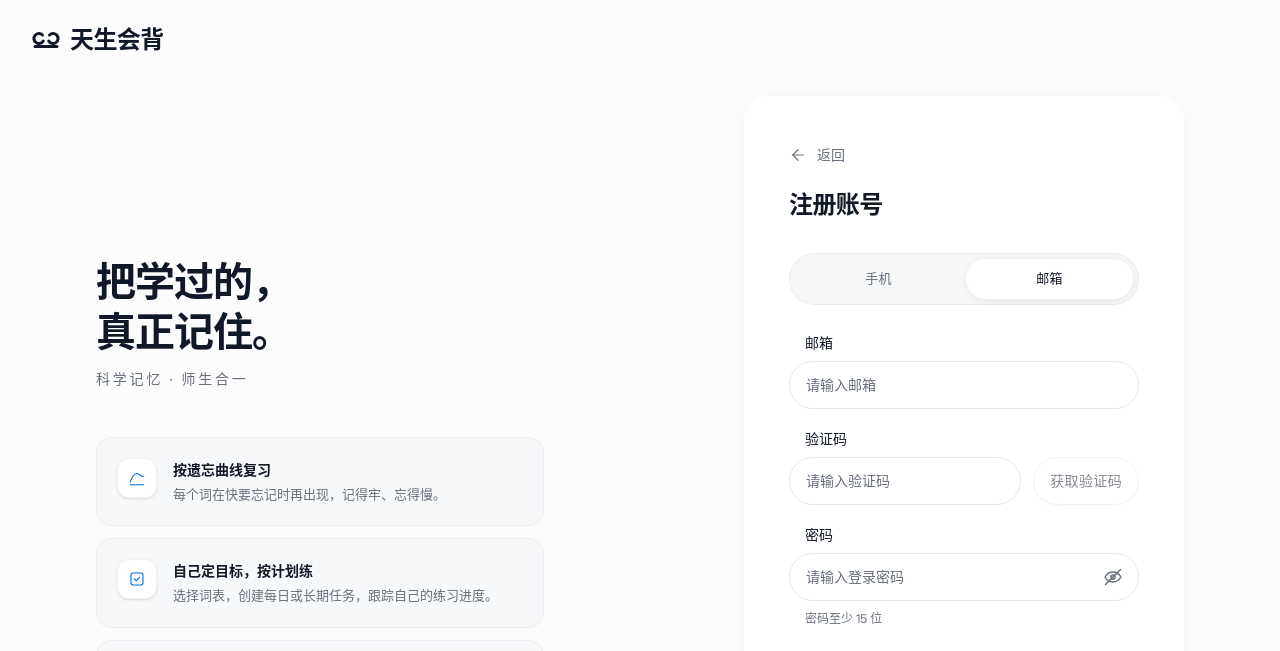
RegisterForm — 手机号验证码注册 › 同一规范化邮箱的大小写和空白修改保留验证码与冷却
In the field with placeholder "请输入邮箱": (964, 385) x1=789 y1=361 x2=1139 y2=409, type "Student@EXAMPLE.com"
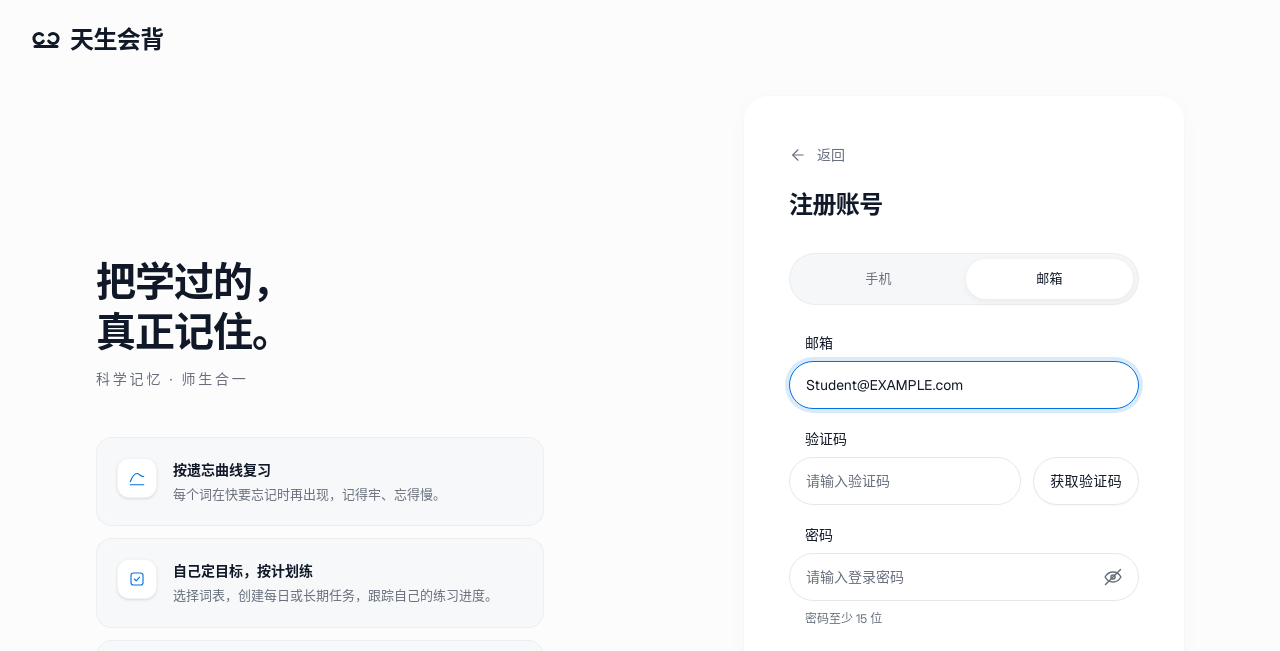
Click the button "获取验证码": (1086, 481) x1=1033 y1=457 x2=1139 y2=505
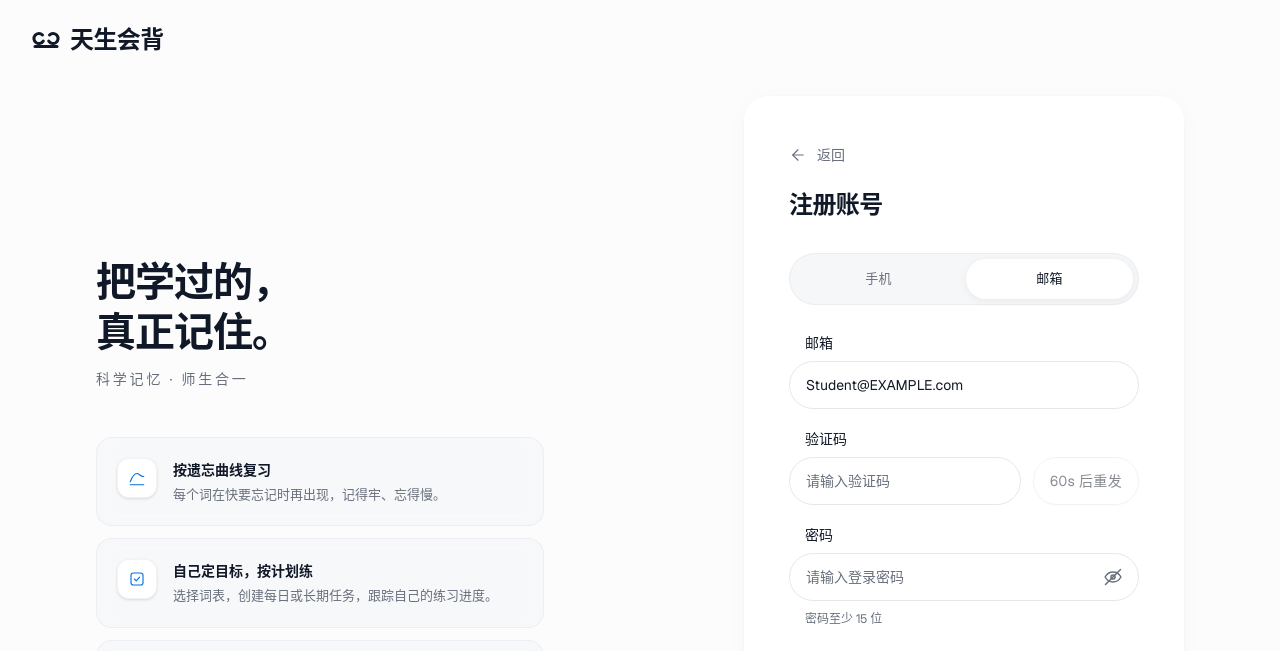
Expected: the button "60s 后重发" is shown, x1=1033 y1=457 x2=1139 y2=505
In the field with placeholder "请输入验证码": (905, 481) x1=789 y1=457 x2=1021 y2=505, type "123456"
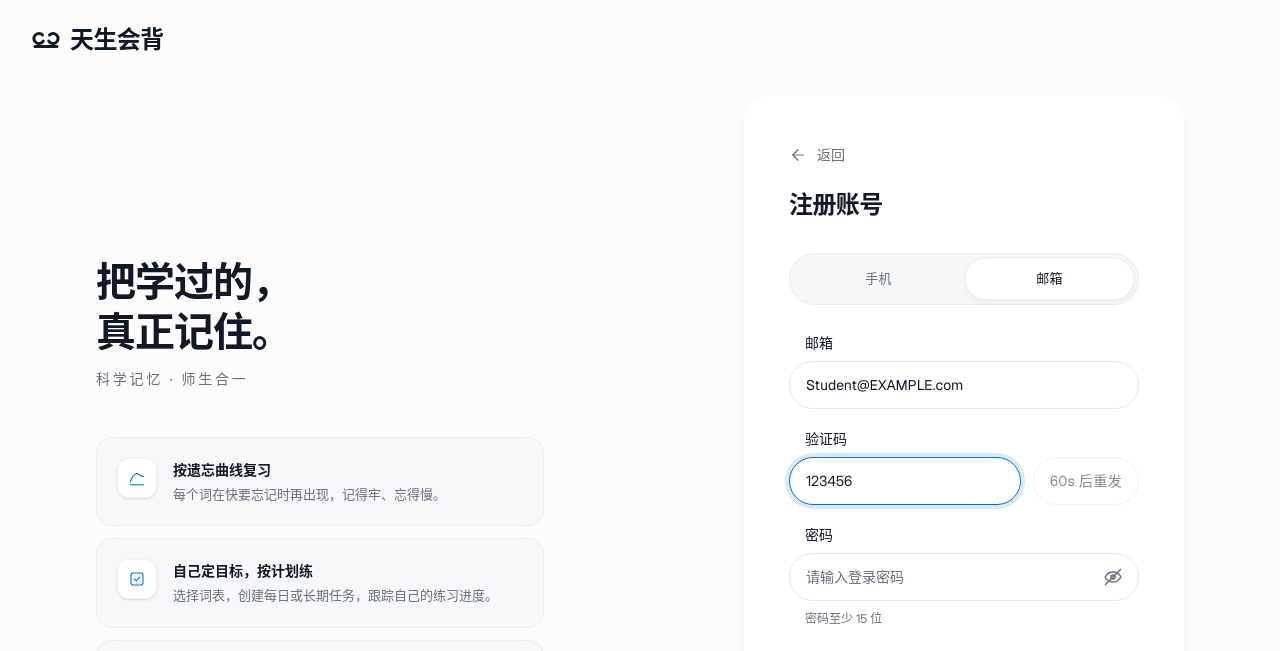
Replace the text in the field with placeholder "请输入邮箱" with " student@example.com ": (964, 385) x1=789 y1=361 x2=1139 y2=409
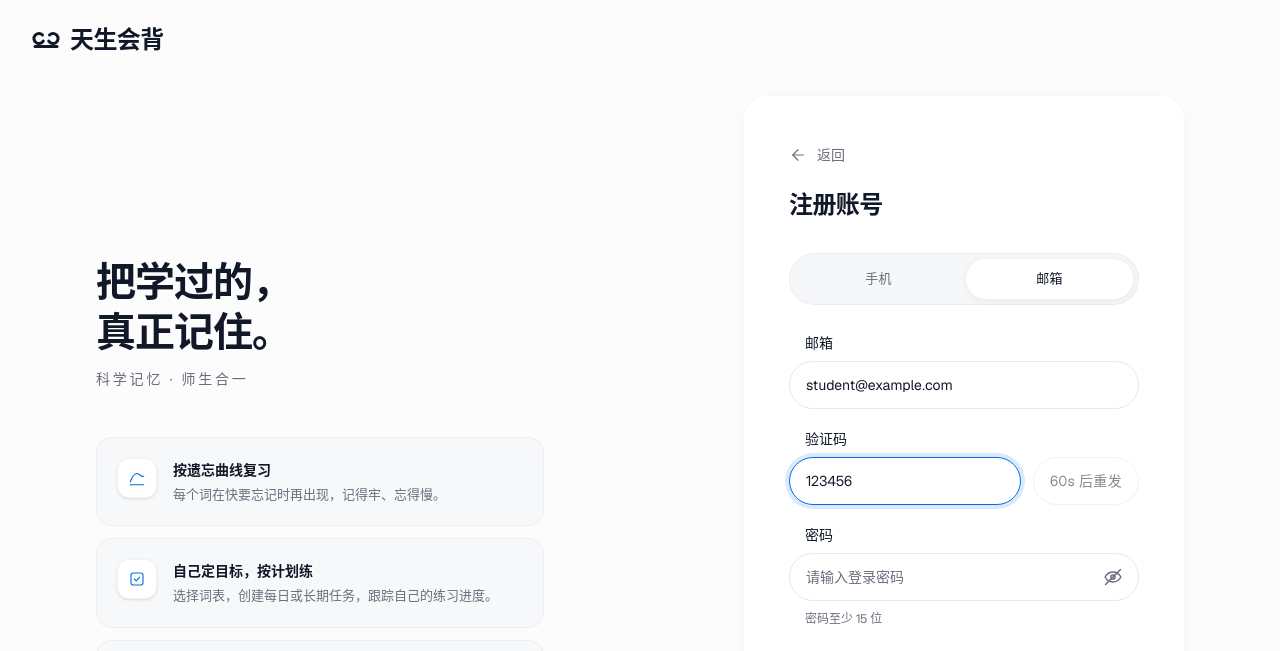
Expected: the button "60s 后重发" is disabled, x1=1033 y1=457 x2=1139 y2=505
Replace the text in the field with placeholder "请输入邮箱" with "other@example.com": (964, 385) x1=789 y1=361 x2=1139 y2=409
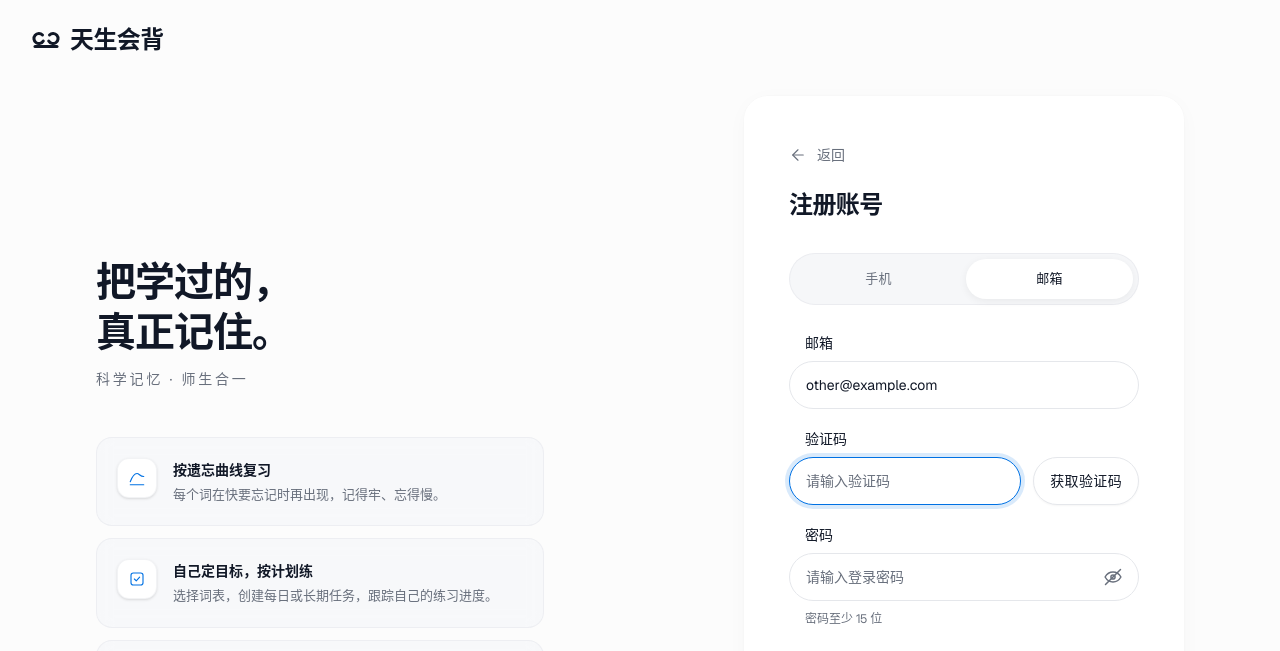
Expected: the field with placeholder "请输入验证码" is empty, x1=789 y1=457 x2=1021 y2=505
Expected: the button "获取验证码" is enabled, x1=1033 y1=457 x2=1139 y2=505
